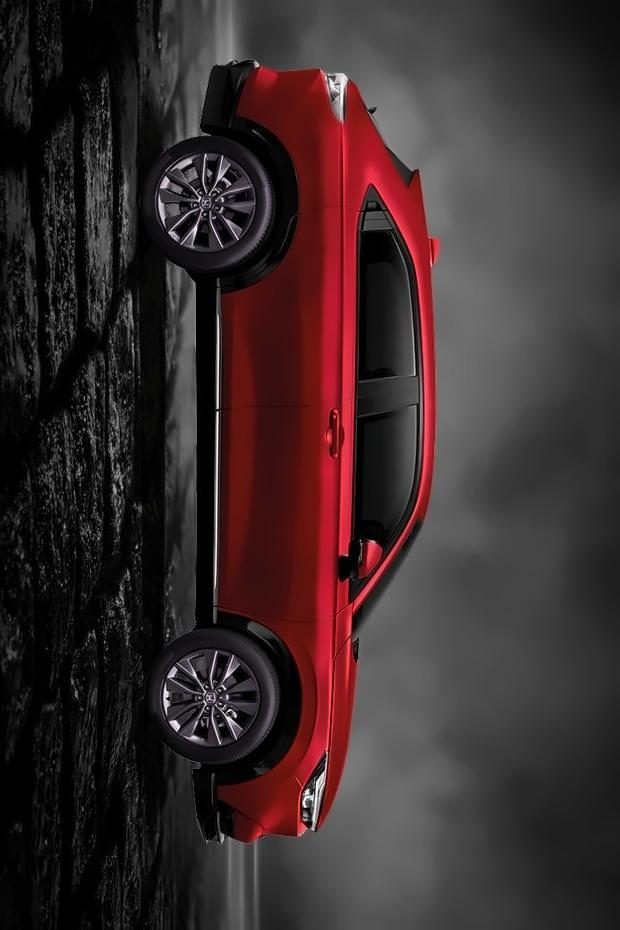Car hood: (315, 633, 361, 837)
Driver-s door - -F-R-: (210, 400, 433, 619)
Fender - -F-R-: (206, 601, 357, 790)
Fender - -R-R-: (269, 108, 385, 215)
Front bumper: (172, 748, 310, 854)
Headlight - -R-: (292, 746, 334, 837)
Passenger-s door - -R-R-: (210, 203, 433, 410)
Rear bumper: (185, 47, 314, 151)
Rear light - -R-: (312, 62, 351, 130)
Side bumper - -R-: (187, 258, 229, 639)
Side mirror - -R-: (331, 533, 387, 593)
